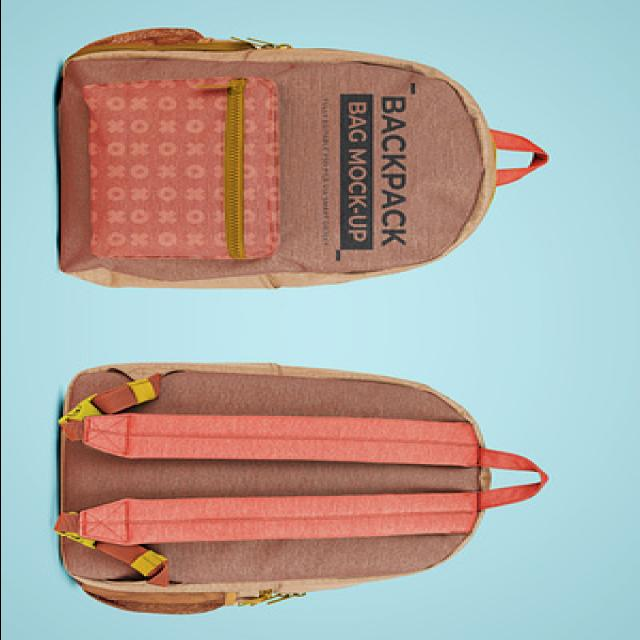backpack: (49, 30, 551, 296), (57, 361, 552, 615)
